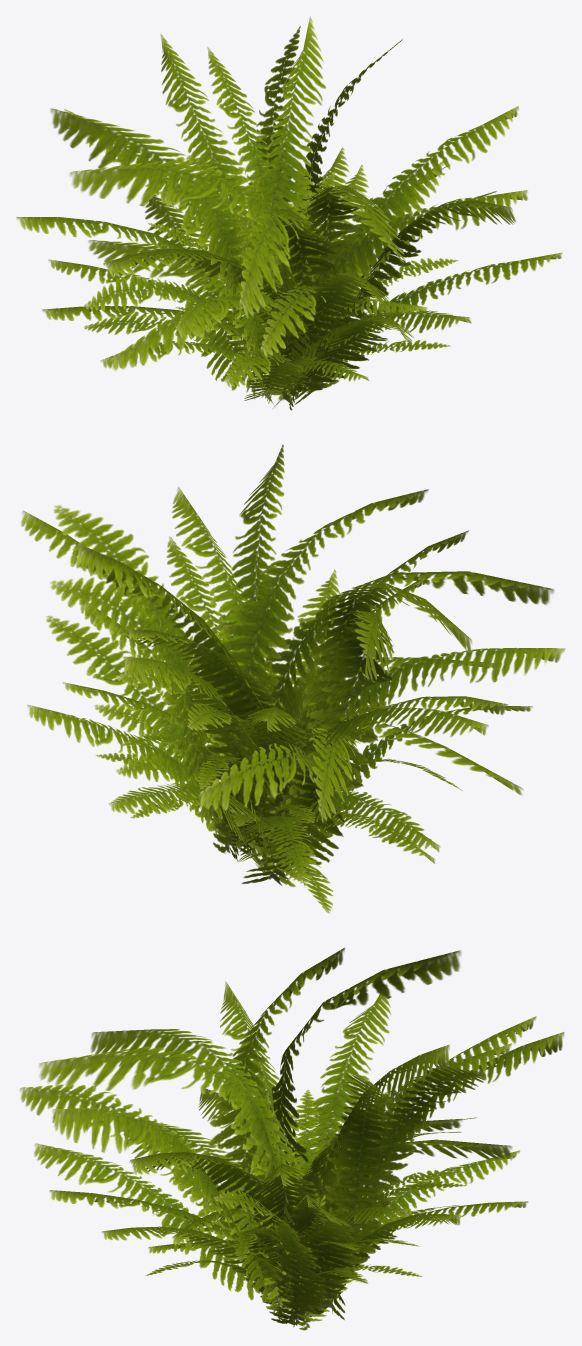
The model's file is fern.glb.
3 views of the same model, one above another, from view 1: azimuth 30°, elevation 25°; view 2: azimuth 150°, elevation 25°; view 3: azimuth 270°, elevation 25° (orthographic). The views are drawn at different scales.
Visible parts, largest first — view 1: pasted__group11_polySurface51; view 2: pasted__group11_polySurface51; view 3: pasted__group11_polySurface51.
Boxes of the visible parts, <box> form: pasted__group11_polySurface51: <box>16,16,562,410</box>; pasted__group11_polySurface51: <box>21,444,565,913</box>; pasted__group11_polySurface51: <box>20,947,564,1330</box>.
Bounding box in the file's own units: 31.31 × 20.63 × 31.17.
Materials: 1 (1 with a texture image).
